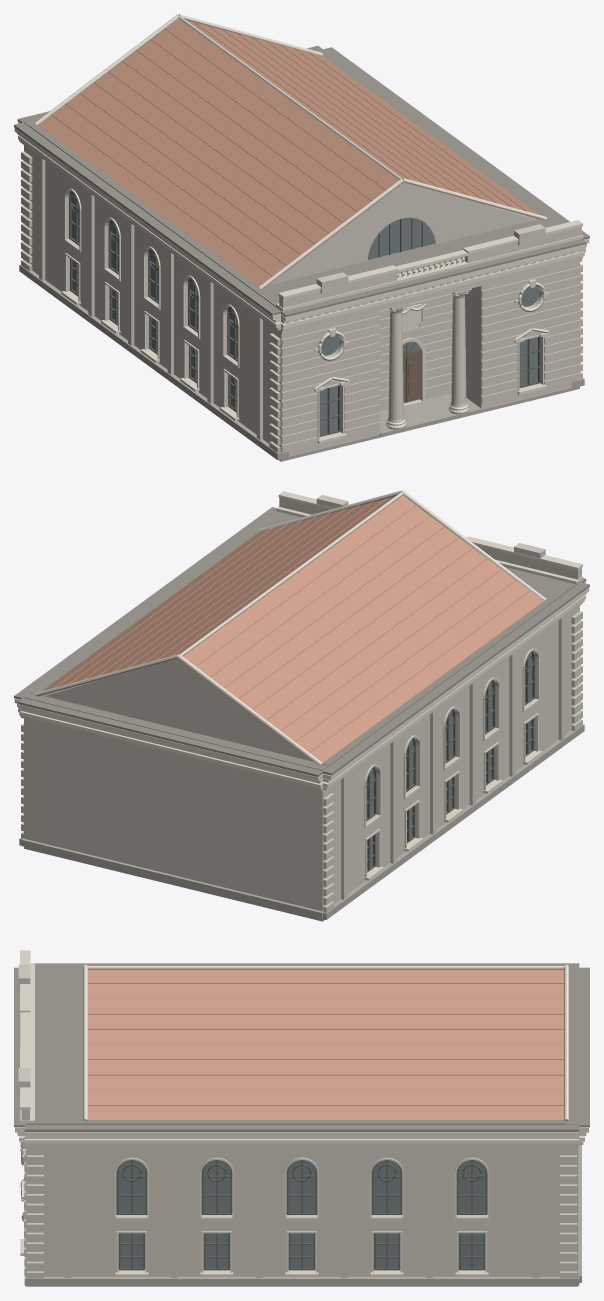
The model's file is jingan-ohel-rachel-synagogue-lod.glb.
3 views of the same model, one above another, from view 1: azimuth 30°, elevation 25°; view 2: azimuth 150°, elevation 25°; view 3: azimuth 270°, elevation 25° (orthographic). The views are drawn at different scales.
Visible parts, largest first — view 1: 西摩路会堂（拉结会堂院内柱廊与侧窗）; view 2: 西摩路会堂（拉结会堂院内柱廊与侧窗）; view 3: 西摩路会堂（拉结会堂院内柱廊与侧窗）.
Part boxes in pixels (x1,y1,x2,y2): 西摩路会堂（拉结会堂院内柱廊与侧窗）: (14,14,589,461); 西摩路会堂（拉结会堂院内柱廊与侧窗）: (14,490,589,921); 西摩路会堂（拉结会堂院内柱廊与侧窗）: (14,950,589,1286).
Bounding box in the file's own units: 18.84 × 12.84 × 27.54.
